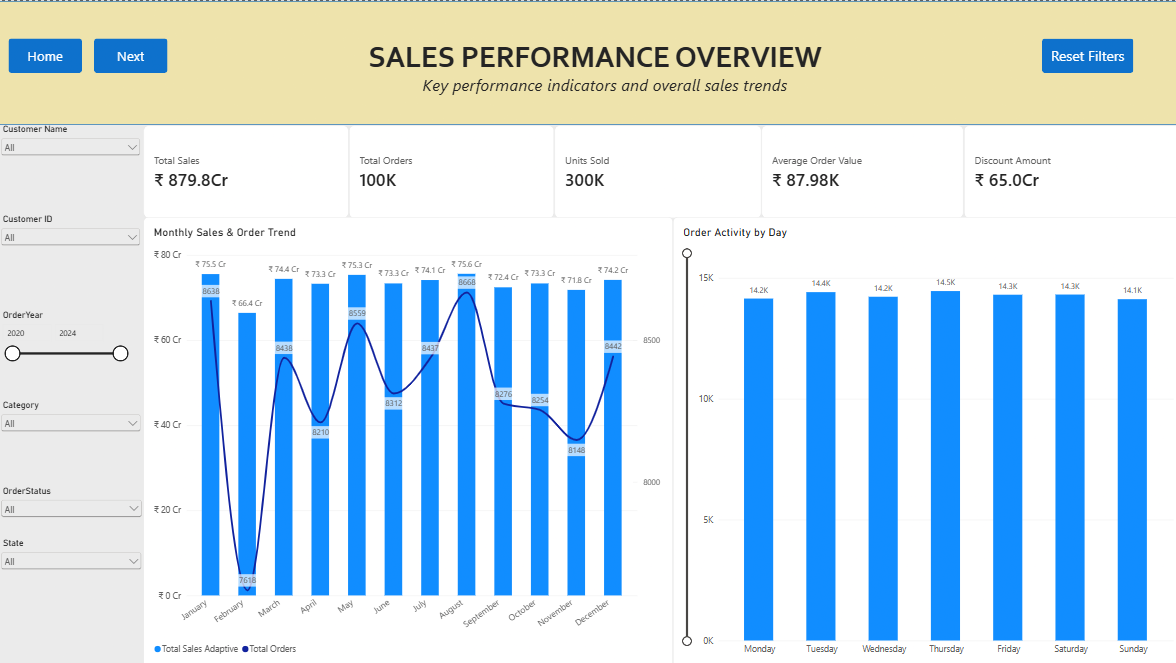

This screenshot's page, from the dashboard's own definition file:
{"tool":"powerbi","page":{"name":"Overview","canvas":[1920,1080],"ordinal":1},"visuals":[{"type":"shape","box":[0,0,1920.7,200.4],"z":0},{"type":"textbox","box":[599.9,60.7,777.2,77.7],"z":1000},{"type":"textbox","box":[687.4,116.6,1003.1,82.6],"z":2000},{"type":"cardVisual","fields":{"Data":["Amazon_ETL_Processed.Total Sales Display"]},"box":[235.6,201.6,332.8,150.6],"z":3000},{"type":"cardVisual","fields":{"Data":["Amazon_ETL_Processed.Total Orders"]},"box":[568.3,201.6,332.8,150.6],"z":4000},{"type":"cardVisual","fields":{"Data":["Amazon_ETL_Processed.Units Sold"]},"box":[901.1,201.6,335.2,150.6],"z":5000},{"type":"cardVisual","fields":{"Data":["Amazon_ETL_Processed.Average Order Value"]},"box":[1236.3,201.6,327.9,150.6],"z":6000},{"type":"cardVisual","fields":{"Data":["Amazon_ETL_Processed.Discount Amount Display"]},"box":[1564.2,201.6,357,150.6],"z":7000},{"type":"lineClusteredColumnComboChart","title":"Monthly Sales & Order Trend","fields":{"Category":["Amazon_ETL_Processed.OrderMonthName"],"Y2":["Amazon_ETL_Processed.Total Orders"],"Y":["Amazon_ETL_Processed.Total Sales Adaptive"]},"box":[235.6,349.8,857.4,731.1],"z":8000},{"type":"clusteredColumnChart","title":"Order Activity by Day","fields":{"Category":["Amazon_ETL_Processed.OrderDayOfWeek"],"Y":["Amazon_ETL_Processed.Total Orders"]},"box":[1092.5,350,828.2,731.1],"z":9000},{"type":"actionButton","box":[1690.5,60.7,148.2,55.9],"z":10000},{"type":"actionButton","box":[17,60.7,119,55.9],"z":11000},{"type":"actionButton","box":[155.4,60.7,119,55.9],"z":12000},{"type":"slicer","fields":{"Values":["Amazon_ETL_Processed.OrderYear"]},"box":[0,501.1,214.4,144.8],"z":13000},{"type":"slicer","fields":{"Values":["Amazon_ETL_Processed.Category"]},"box":[0,645,235.7,140],"z":14000},{"type":"slicer","fields":{"Values":["Amazon_ETL_Processed.OrderStatus"]},"box":[0,785,237.5,155],"z":15000},{"type":"slicer","fields":{"Values":["Amazon_ETL_Processed.State"]},"box":[0,870,237.1,140],"z":16000},{"type":"slicer","fields":{"Values":["Amazon_ETL_Processed.CustomerName"]},"box":[0,200,235,150],"z":17000},{"type":"slicer","fields":{"Values":["Amazon_ETL_Processed.CustomerID"]},"box":[0,345,235,157.5],"z":18000}]}

Visuals, with their boxes in screenshot pixels (x1, y1, x2, y2), scaled from the page's 1920x1080 canvas onto the 1176x663 screenshot:
shape: region(0, 0, 1175, 123)
textbox: region(367, 37, 843, 85)
textbox: region(421, 72, 1035, 122)
cardVisual - Amazon_ETL_Processed.Total Sales Display: region(144, 124, 348, 216)
cardVisual - Amazon_ETL_Processed.Total Orders: region(348, 124, 552, 216)
cardVisual - Amazon_ETL_Processed.Units Sold: region(552, 124, 757, 216)
cardVisual - Amazon_ETL_Processed.Average Order Value: region(757, 124, 958, 216)
cardVisual - Amazon_ETL_Processed.Discount Amount Display: region(958, 124, 1175, 216)
"Monthly Sales & Order Trend" lineClusteredColumnComboChart: region(144, 215, 669, 662)
"Order Activity by Day" clusteredColumnChart: region(669, 215, 1175, 662)
actionButton: region(1035, 37, 1126, 72)
actionButton: region(10, 37, 83, 72)
actionButton: region(95, 37, 168, 72)
slicer - Amazon_ETL_Processed.OrderYear: region(0, 308, 131, 397)
slicer - Amazon_ETL_Processed.Category: region(0, 396, 144, 482)
slicer - Amazon_ETL_Processed.OrderStatus: region(0, 482, 145, 577)
slicer - Amazon_ETL_Processed.State: region(0, 534, 145, 620)
slicer - Amazon_ETL_Processed.CustomerName: region(0, 123, 144, 215)
slicer - Amazon_ETL_Processed.CustomerID: region(0, 212, 144, 308)
